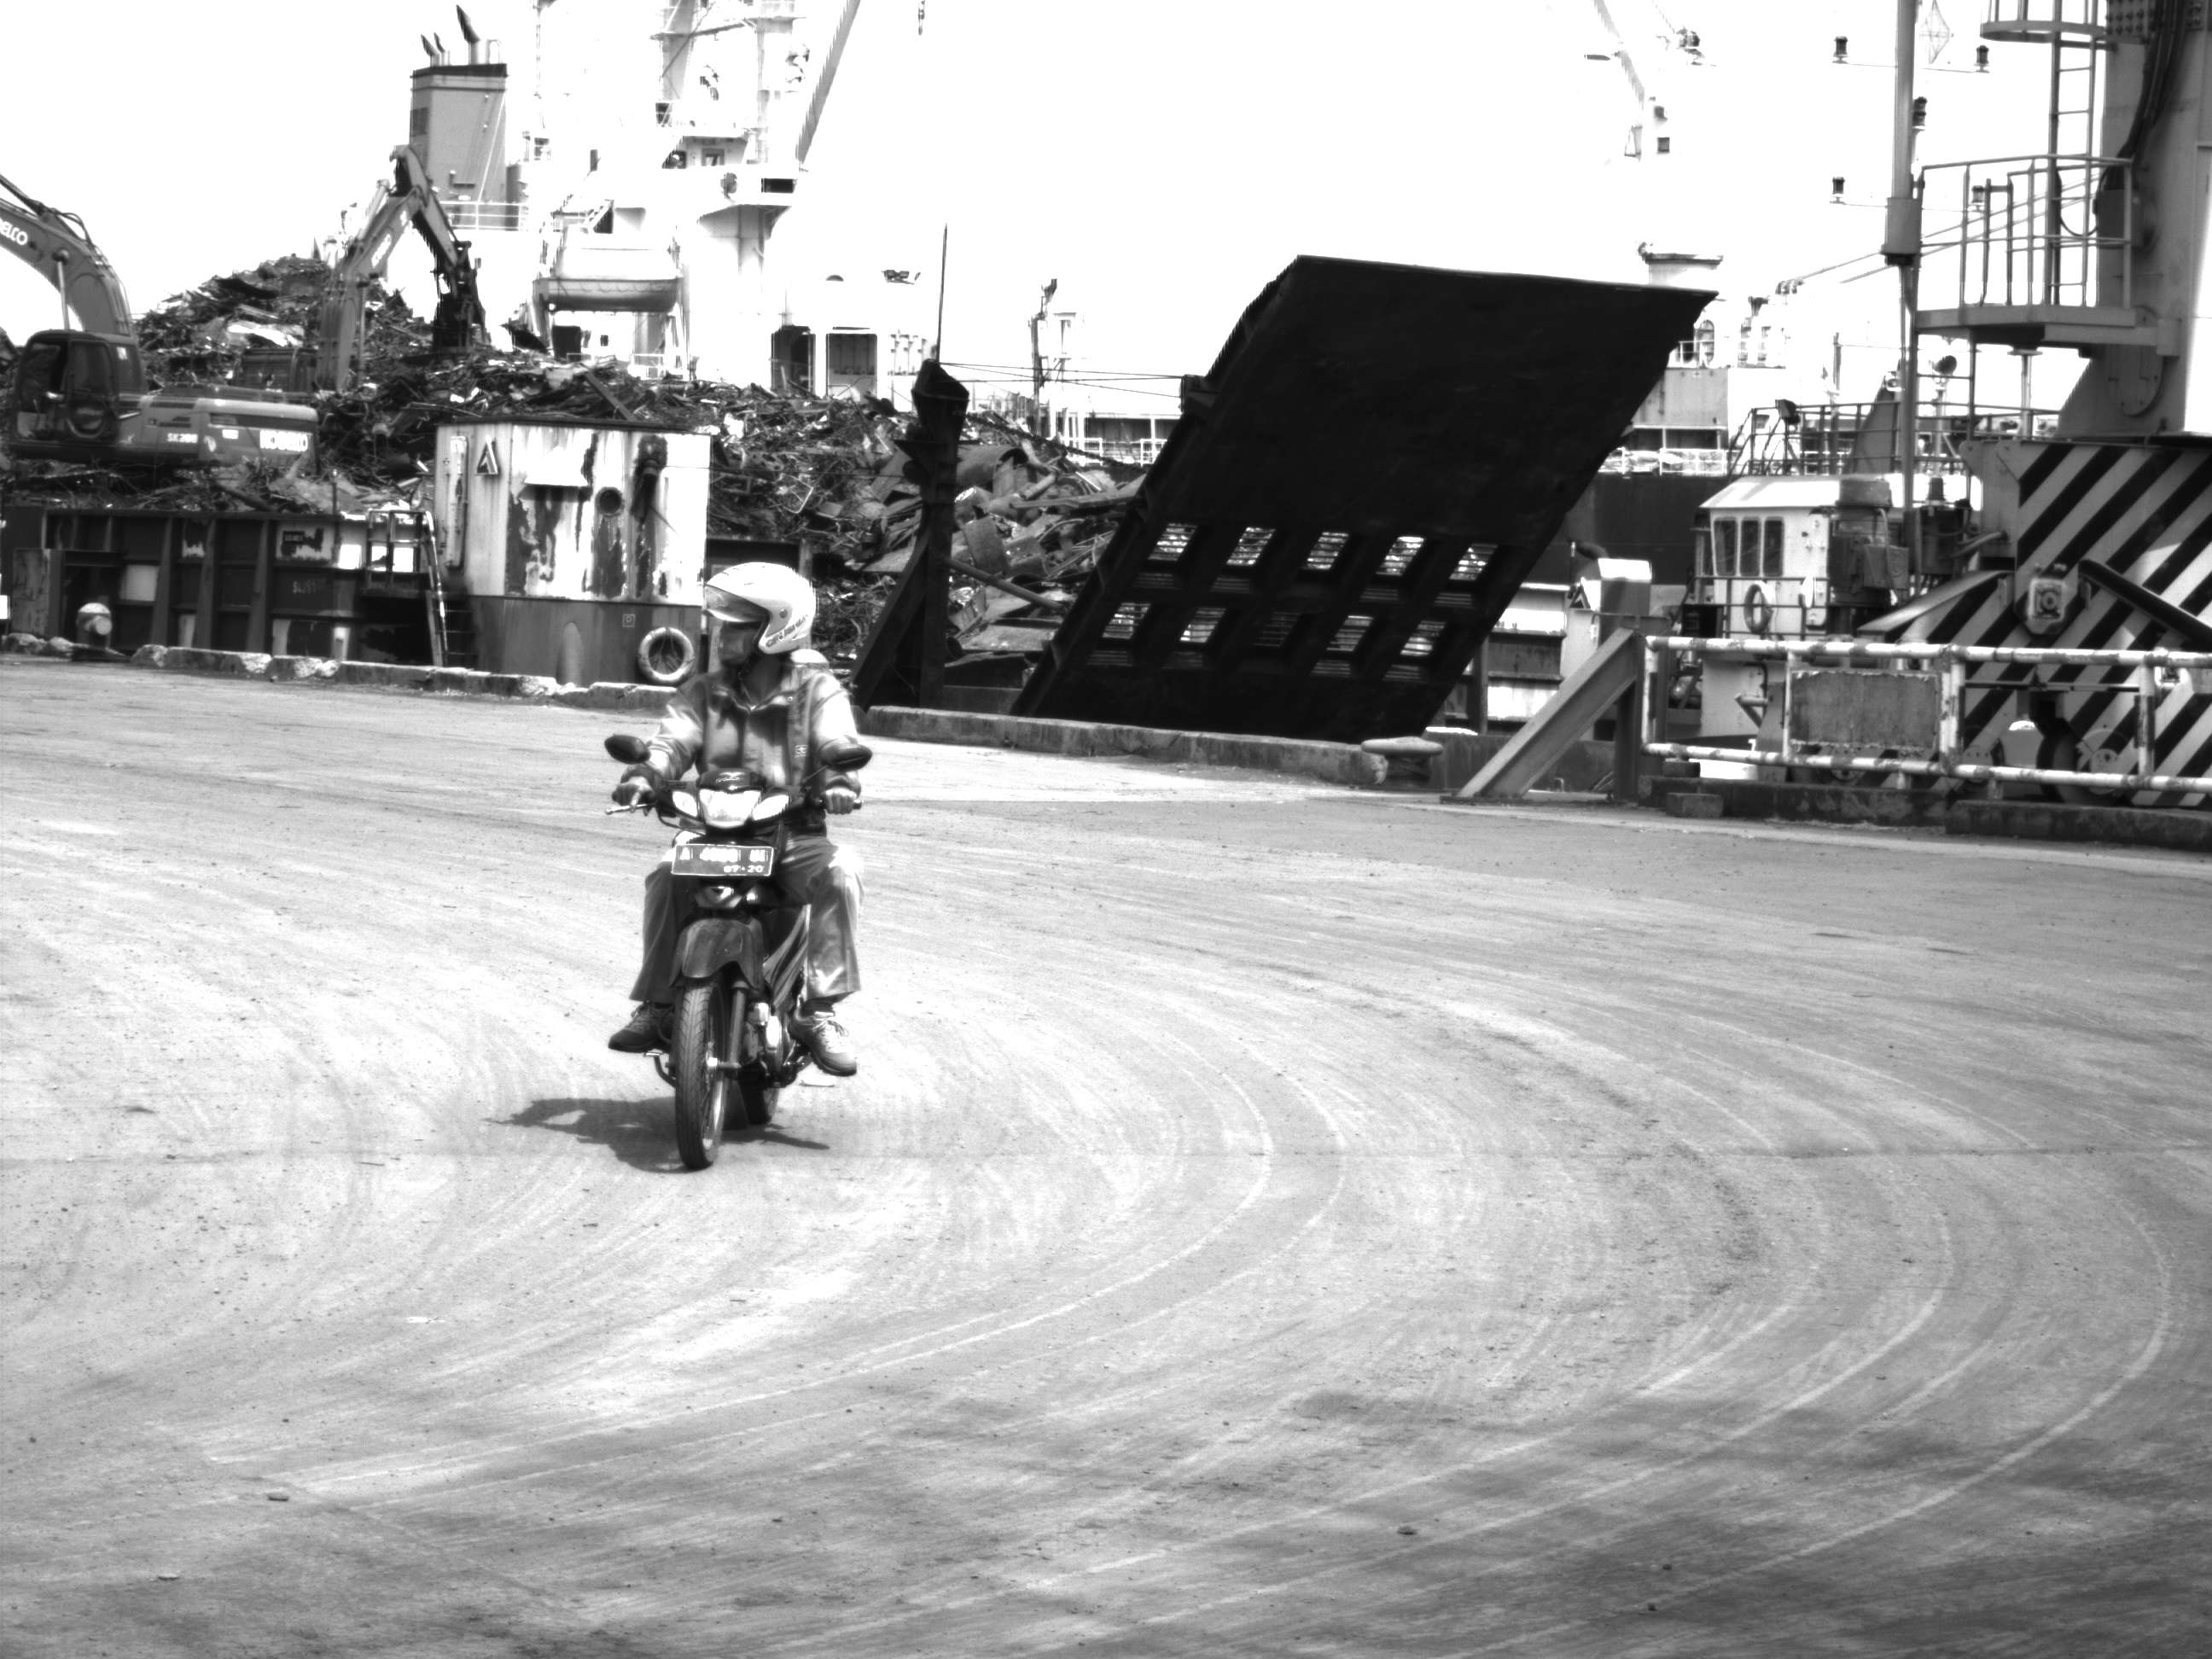motor_bike: (597, 734, 882, 1173)
person: (610, 550, 886, 768)
